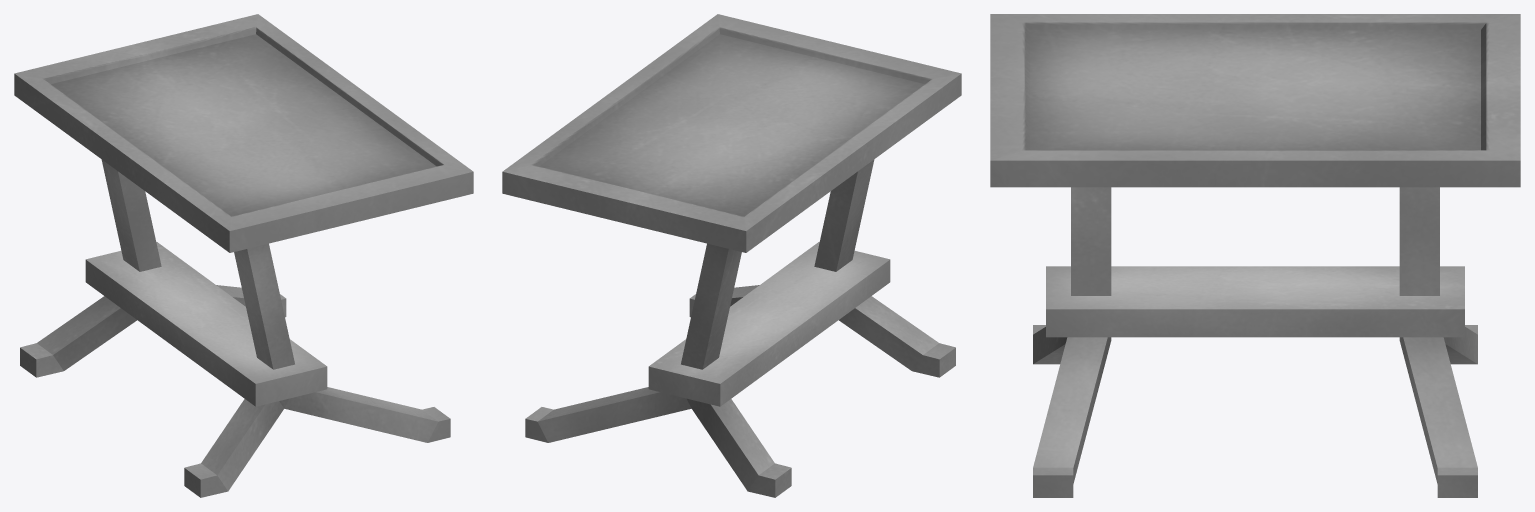
Rendered from Digdig random bord.fbx.
3 views of the same model, side by side, from view 1: azimuth 30°, elevation 25°; view 2: azimuth 150°, elevation 25°; view 3: azimuth 270°, elevation 25° (orthographic). The views are drawn at different scales.
Parts seen in each view (by area): view 1: polySurface2; view 2: polySurface2; view 3: polySurface2.
Boxes of the visible parts, bbox=[...] form: polySurface2: bbox=[14, 14, 473, 497]; polySurface2: bbox=[502, 14, 961, 497]; polySurface2: bbox=[990, 14, 1520, 497].
Bounding box in the file's own units: 2.24 × 2.32 × 3.27.
